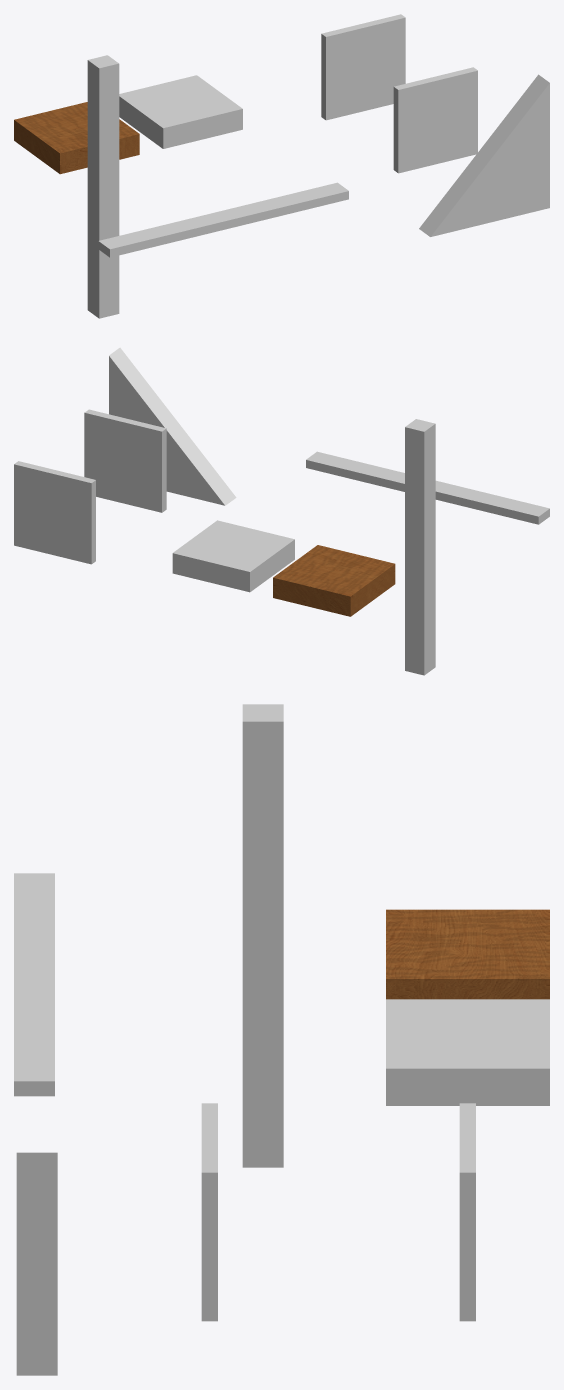
File: TestSample2.fbx
3 views of the same model, one above another, from view 1: azimuth 30°, elevation 25°; view 2: azimuth 150°, elevation 25°; view 3: azimuth 270°, elevation 25° (orthographic). The views are drawn at different scales.
Visible parts, largest first — view 1: LowTriangleWoodA, LowWoodD, LowWoodB_Wall, LowWoodA_Wall, LowWoodB, LowWoodC, LowWoodA; view 2: LowWoodD, LowWoodA_Wall, LowWoodB_Wall, LowTriangleWoodA, LowWoodB, LowWoodA, LowWoodC; view 3: LowWoodD, LowWoodB, LowWoodA, LowTriangleWoodA, LowWoodC, LowWoodA_Wall, LowWoodB_Wall.
Boxes of the visible parts, x1,y1,x2,y2 form: LowTriangleWoodA: [419, 74, 549, 236]; LowWoodD: [87, 55, 119, 318]; LowWoodB_Wall: [393, 67, 477, 173]; LowWoodA_Wall: [321, 14, 405, 120]; LowWoodB: [119, 75, 242, 148]; LowWoodC: [98, 182, 348, 257]; LowWoodA: [14, 102, 139, 174]; LowWoodD: [405, 419, 435, 675]; LowWoodA_Wall: [14, 461, 95, 564]; LowWoodB_Wall: [84, 409, 166, 512]; LowTriangleWoodA: [109, 347, 236, 505]; LowWoodB: [172, 520, 294, 592]; LowWoodA: [273, 545, 395, 616]; LowWoodC: [306, 451, 549, 524]; LowWoodD: [242, 704, 283, 1167]; LowWoodB: [386, 999, 549, 1105]; LowWoodA: [386, 909, 549, 999]; LowTriangleWoodA: [16, 1152, 57, 1375]; LowWoodC: [14, 873, 54, 1096]; LowWoodA_Wall: [459, 1103, 475, 1321]; LowWoodB_Wall: [201, 1103, 217, 1321].
Size of the model in its own units: 2211 by 1200 by 1307.
